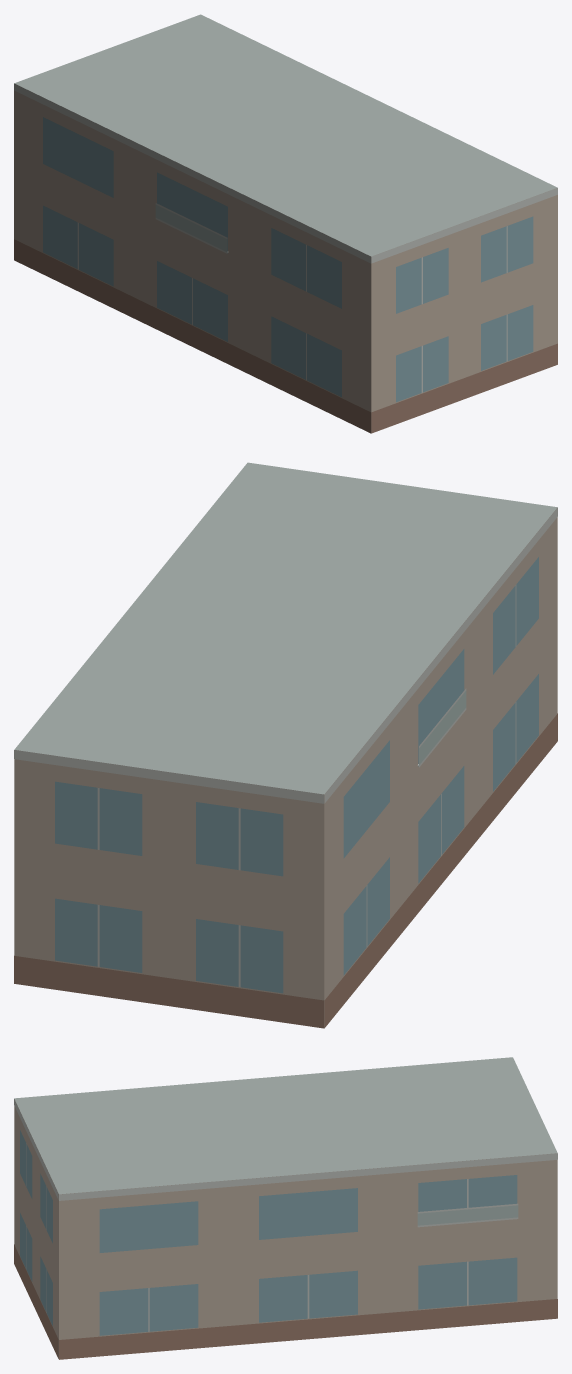
Rendered from survey-upis-32696575.glb.
3 views of the same model, one above another, from view 1: azimuth 30°, elevation 25°; view 2: azimuth 150°, elevation 25°; view 3: azimuth 270°, elevation 25° (orthographic). The views are drawn at different scales.
Parts seen in each view (by area): view 1: survey-upis-32696575.tmp; view 2: survey-upis-32696575.tmp; view 3: survey-upis-32696575.tmp.
Part boxes in pixels (box(x1,y1,x2,y2)): survey-upis-32696575.tmp: box(14, 14, 557, 433); survey-upis-32696575.tmp: box(14, 462, 557, 1028); survey-upis-32696575.tmp: box(14, 1057, 557, 1359).
Size of the model in its own units: 10.87 by 6.1 by 18.18.
